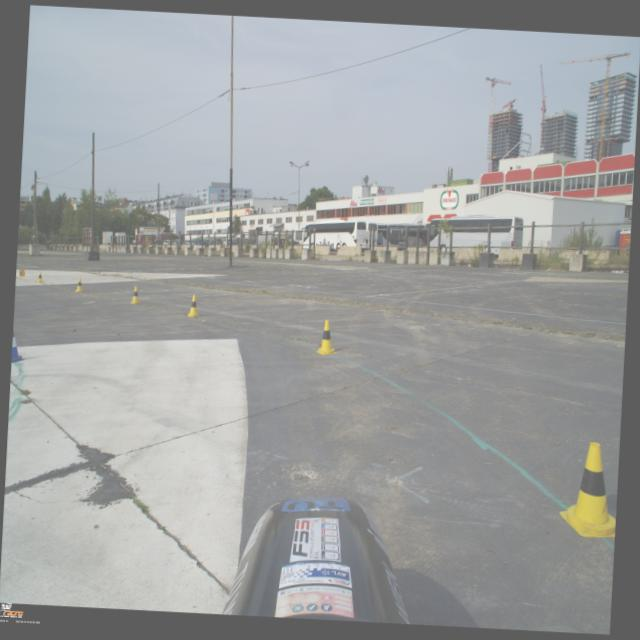blue_cone: (12, 330, 26, 364)
yellow_cone: (558, 441, 620, 539), (316, 320, 338, 356), (187, 294, 201, 318), (130, 286, 142, 305), (75, 278, 84, 292), (36, 272, 44, 283), (20, 270, 26, 276)
